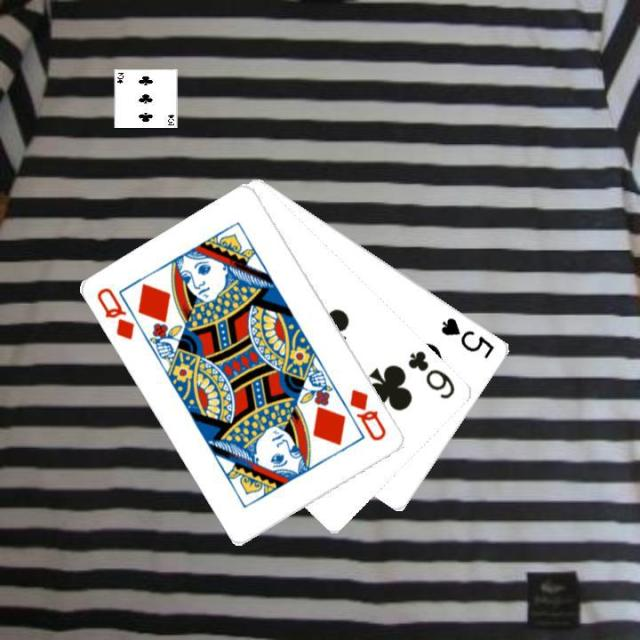5S: (437, 313, 497, 360)
6C: (404, 347, 458, 401)
QD: (93, 284, 137, 342), (346, 385, 389, 443)
